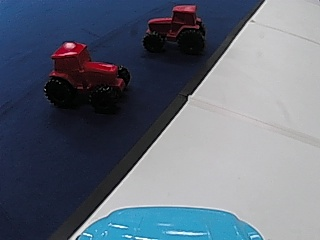Tracktor: (41, 40, 132, 111), (143, 4, 208, 54)
